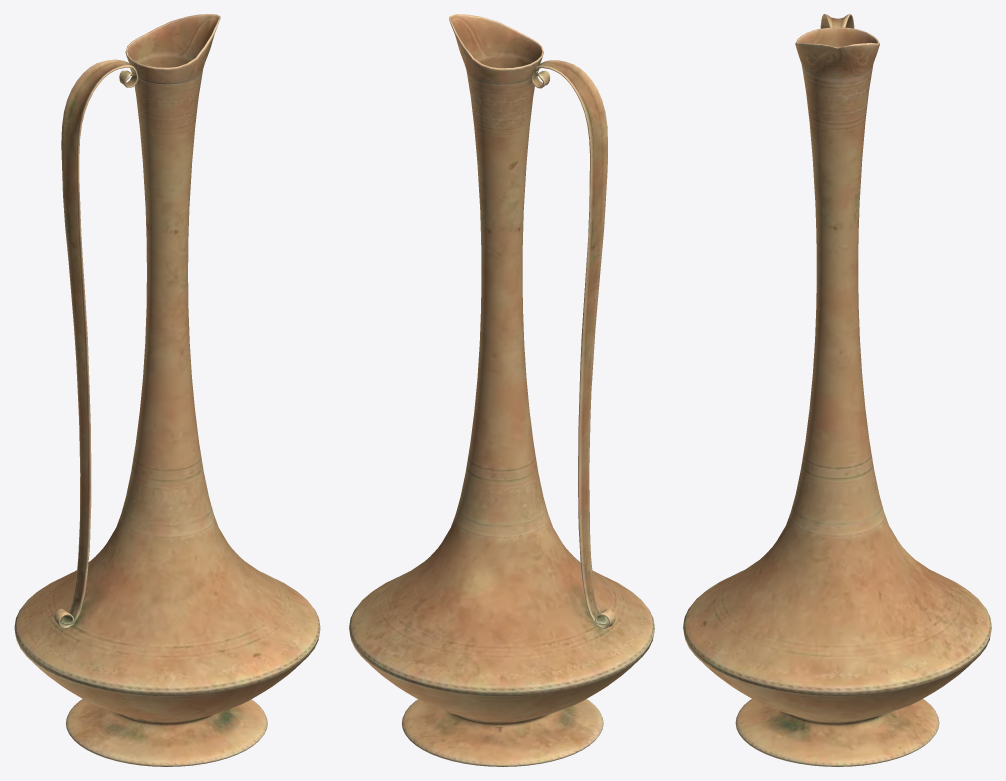
Rendered from brass_vase_02.glb.
3 views of the same model, side by side, from view 1: azimuth 30°, elevation 25°; view 2: azimuth 150°, elevation 25°; view 3: azimuth 270°, elevation 25° (orthographic).
Visible parts, largest first — view 1: brass_vase_02; view 2: brass_vase_02; view 3: brass_vase_02.
Boxes of the visible parts, x1,y1,x2,y2 form: brass_vase_02: (14, 14, 320, 766); brass_vase_02: (349, 14, 654, 766); brass_vase_02: (683, 14, 991, 766).
Bounding box in the file's own units: 0.2103 × 0.5286 × 0.2103.
Materials: 1 (1 with a texture image).
